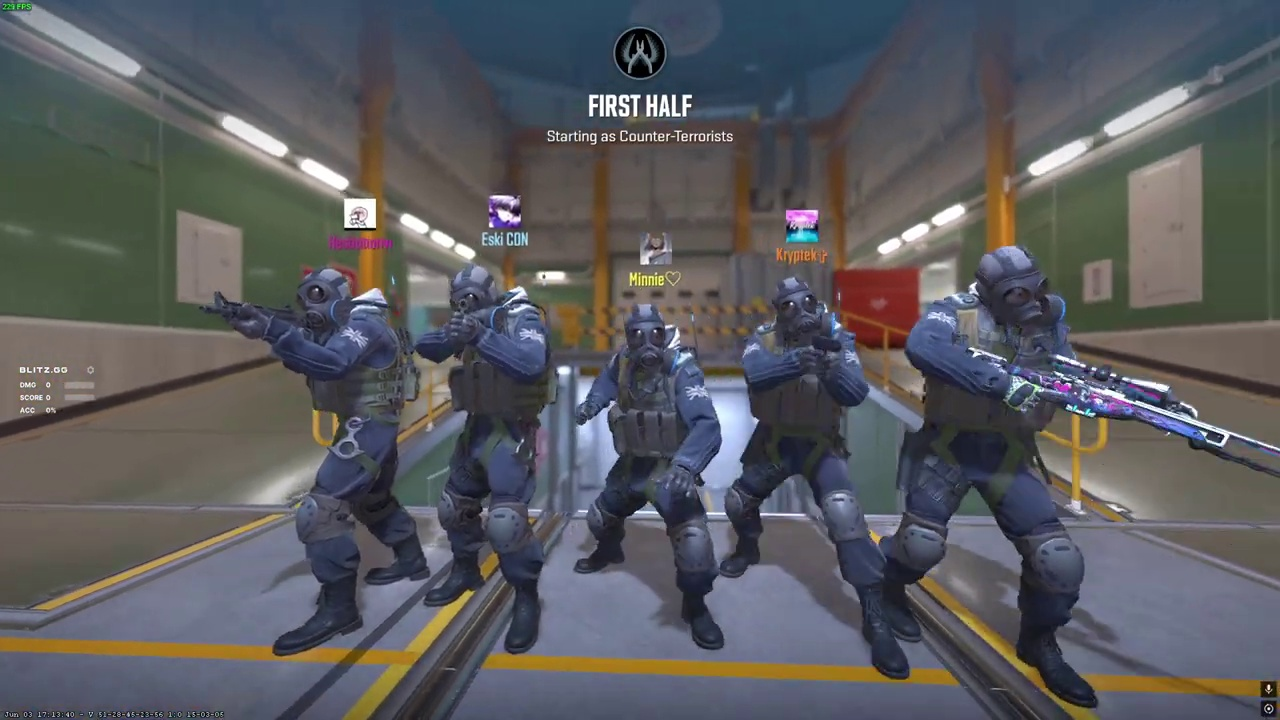CT: (882, 247, 1102, 704), (720, 275, 886, 670), (266, 267, 427, 648), (575, 306, 728, 651), (424, 267, 559, 643)
